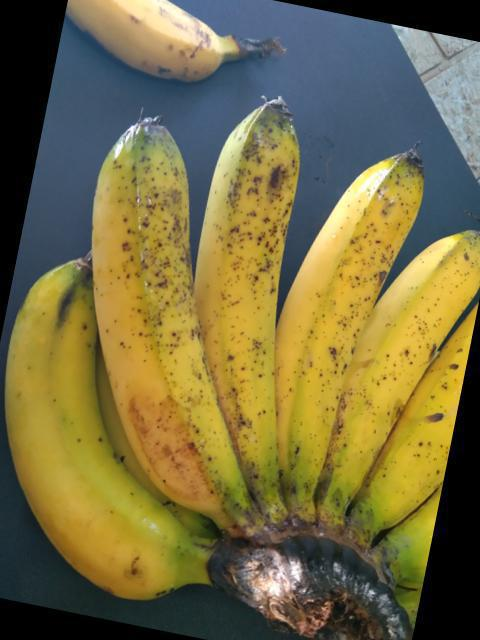ripe: (0, 244, 204, 592), (93, 119, 249, 544), (280, 126, 437, 536), (192, 87, 318, 525), (341, 197, 471, 591)
